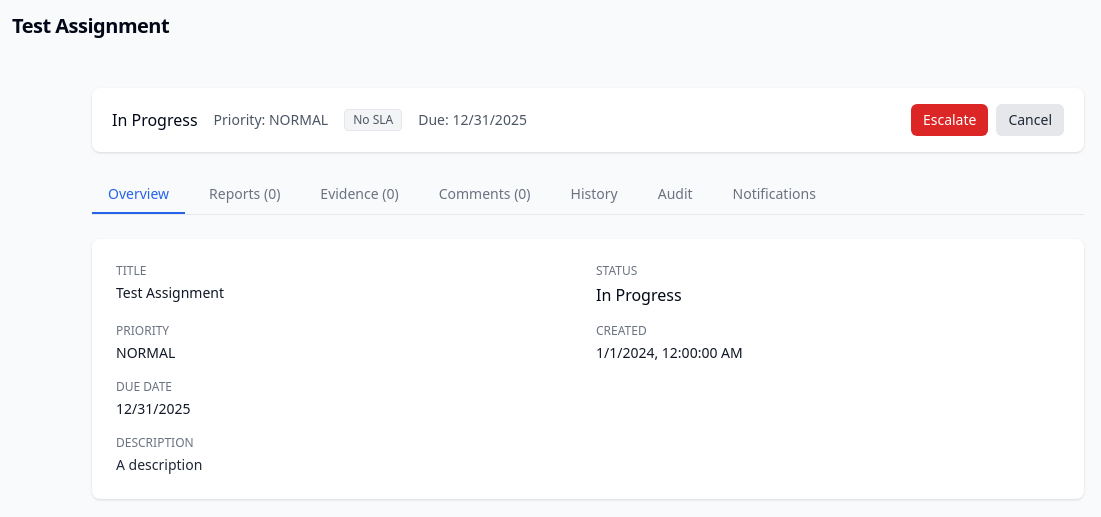
Test case: AssignmentDetailPage › switches to comments tab and renders comment form
The width and height of the screenshot is (1101, 517).
Step 1. Click the tab with test id "tab-comments" → (485,195), box [423,176,547,214]
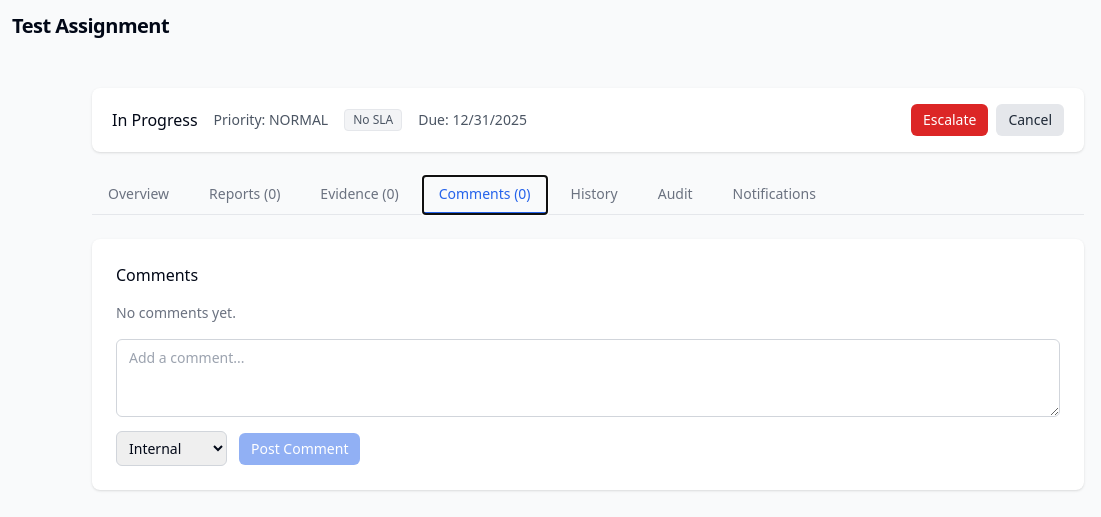
Expected: the text box with test id "comment-input" is shown, [116,339,1060,417]
